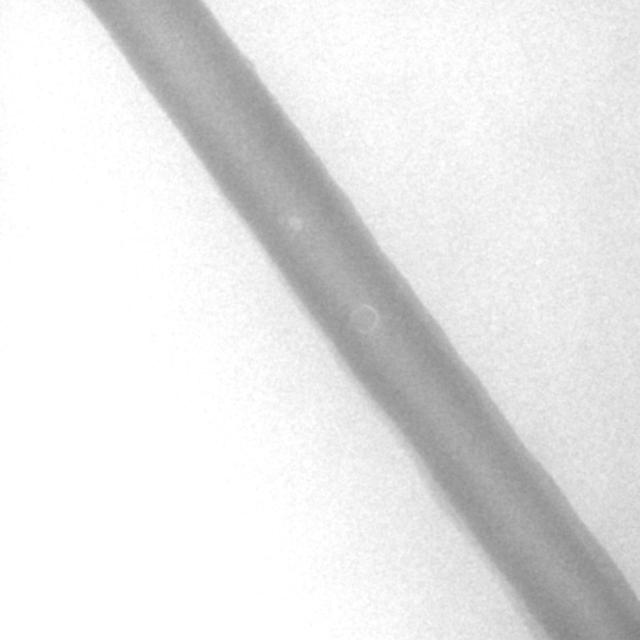hollow bead: (350, 302, 380, 337)
